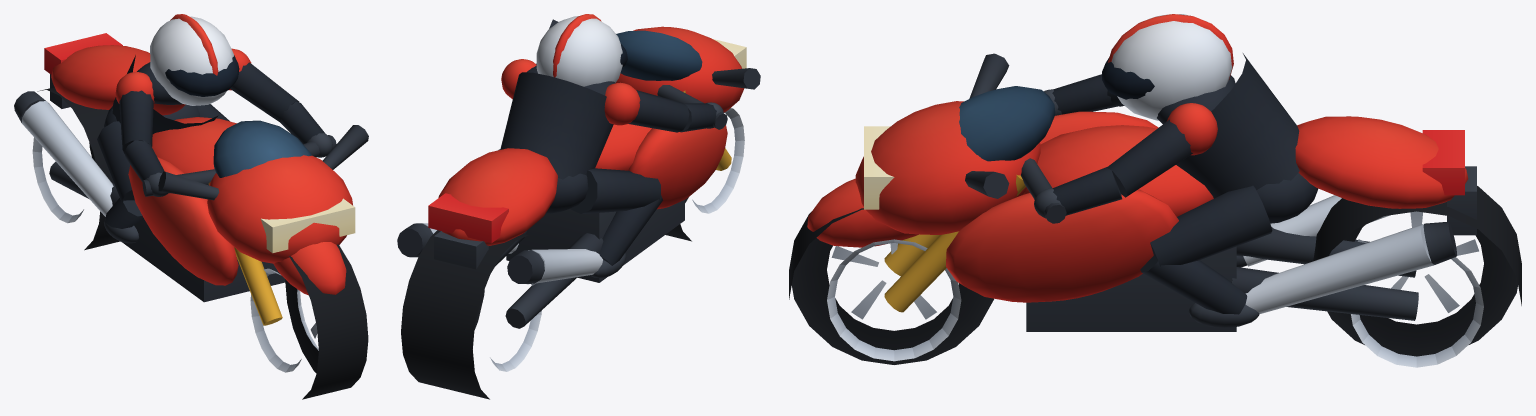
The model's file is motorcycle.glb.
The picture shows the model from 3 angles, left to right: view 1: azimuth 30°, elevation 25°; view 2: azimuth 150°, elevation 25°; view 3: azimuth 270°, elevation 25°; orthographic projection. The views are drawn at different scales.
Visible parts, largest first — view 1: body, wheel-set; view 2: body, wheel-set; view 3: body, wheel-set.
Boxes of the visible parts, box(x1,y1,x2,y2) form: body: box(14, 14, 368, 325); wheel-set: box(32, 87, 368, 399); body: box(397, 14, 760, 328); wheel-set: box(401, 108, 744, 399); body: box(807, 14, 1476, 331); wheel-set: box(789, 186, 1521, 367).
Bounding box in the file's own units: 1 × 1.34 × 2.44.
Materials: 1 (1 with a texture image).
